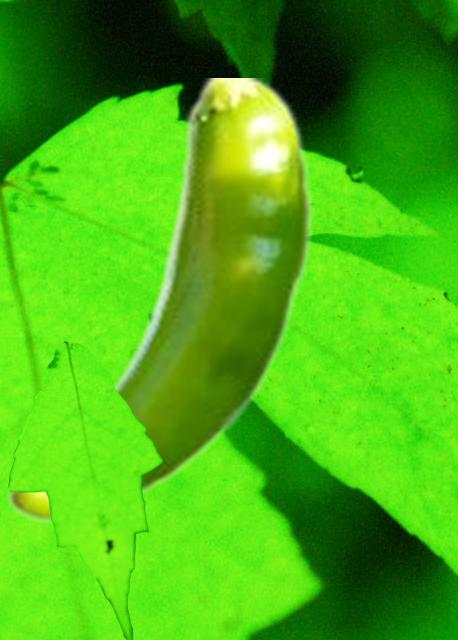green_chili: (4, 78, 313, 524)
